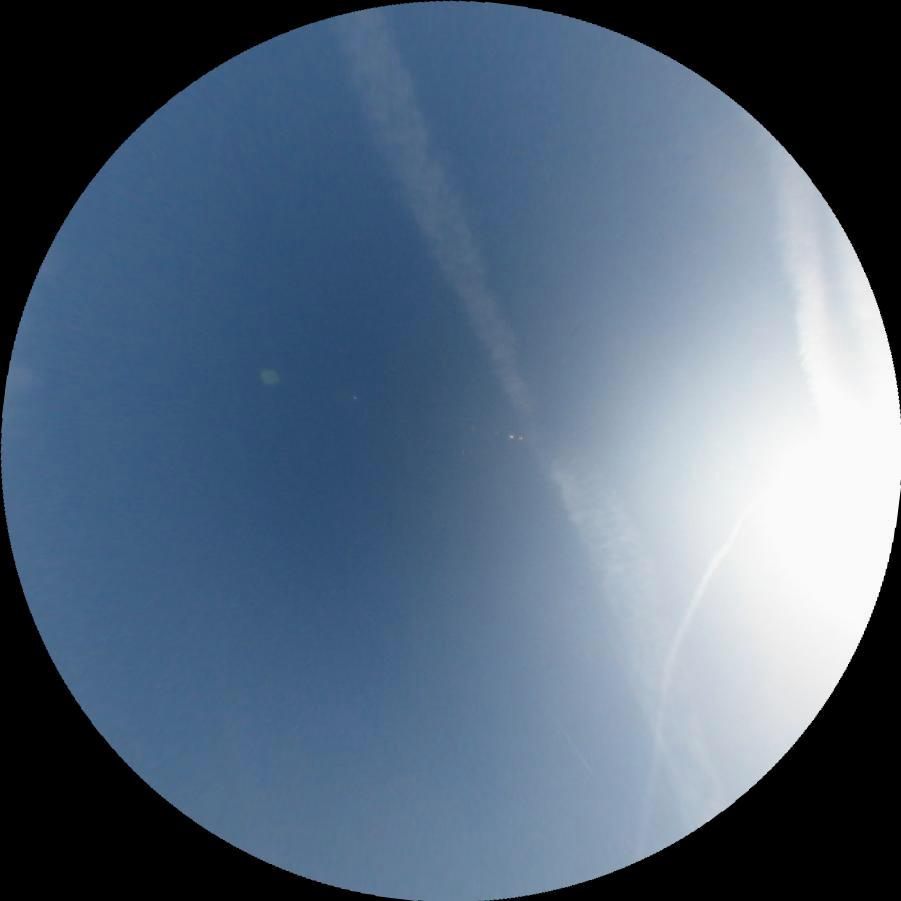contrail old: (605, 496, 750, 863)
contrail veryold: (314, 0, 766, 823), (757, 129, 862, 450)
contrail young: (558, 726, 594, 776)
sun: (740, 439, 901, 601)
